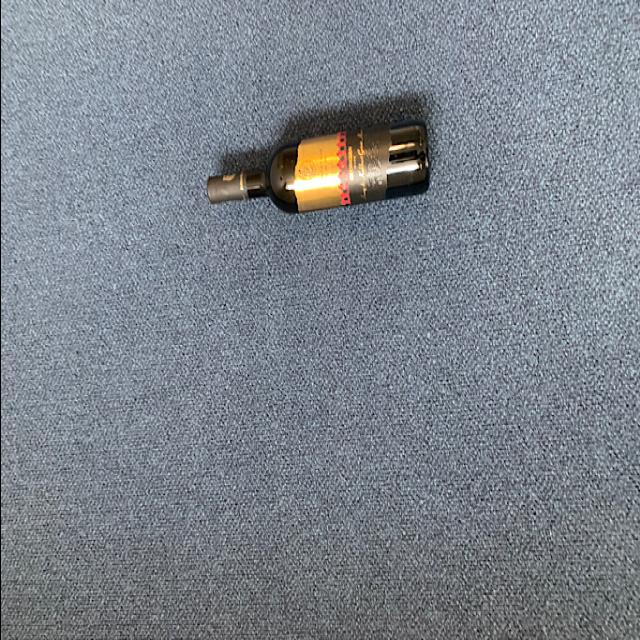Glass Bottle: (201, 115, 433, 219)
